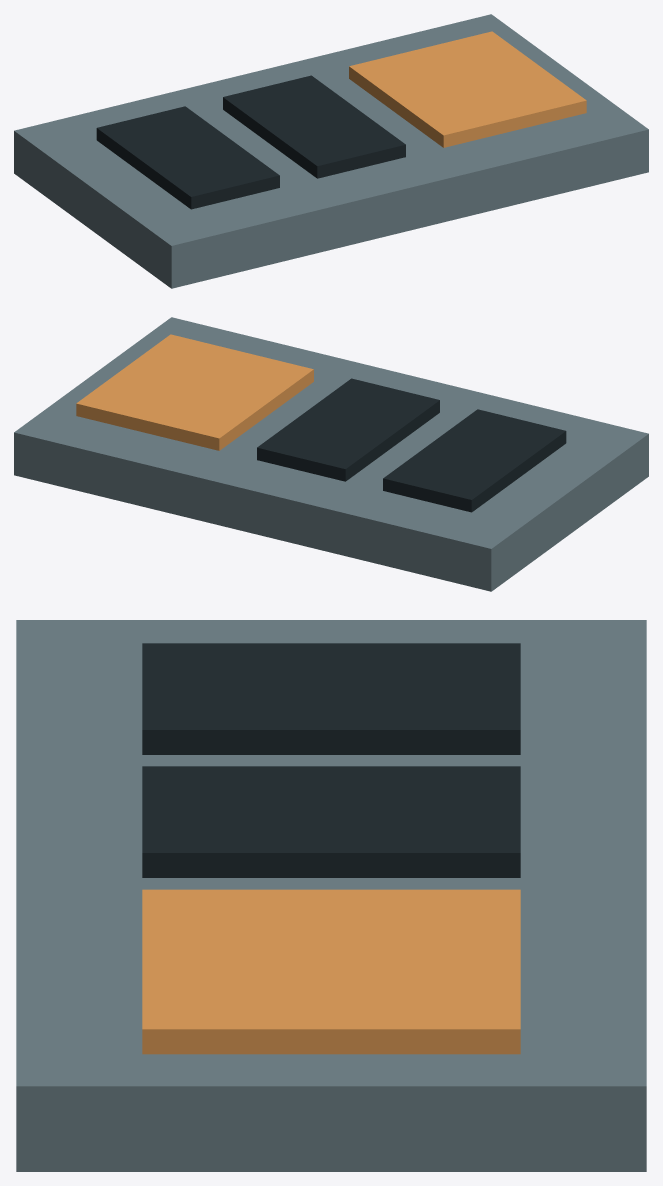
The model's file is boot-tray.glb.
3 views of the same model, one above another, from view 1: azimuth 30°, elevation 25°; view 2: azimuth 150°, elevation 25°; view 3: azimuth 270°, elevation 25° (orthographic). The views are drawn at different scales.
Parts seen in each view (by area): view 1: tray, tool_zone, boot_zone_l, boot_zone_r; view 2: tray, tool_zone, boot_zone_l, boot_zone_r; view 3: tray, tool_zone, boot_zone_l, boot_zone_r.
Part boxes in pixels (left/top/right/bottom): tray: left=14, top=14, right=648, bottom=288; tool_zone: left=349, top=31, right=586, bottom=147; boot_zone_l: left=96, top=106, right=279, bottom=209; boot_zone_r: left=223, top=75, right=405, bottom=178; tray: left=14, top=317, right=648, bottom=591; tool_zone: left=76, top=334, right=313, bottom=450; boot_zone_l: left=383, top=409, right=566, bottom=512; boot_zone_r: left=257, top=378, right=439, bottom=481; tray: left=16, top=620, right=646, bottom=1171; tool_zone: left=142, top=889, right=520, bottom=1054; boot_zone_l: left=142, top=643, right=520, bottom=754; boot_zone_r: left=142, top=766, right=520, bottom=877.
Size of the model in its own units: 1.4 by 0.1575 by 0.8.
